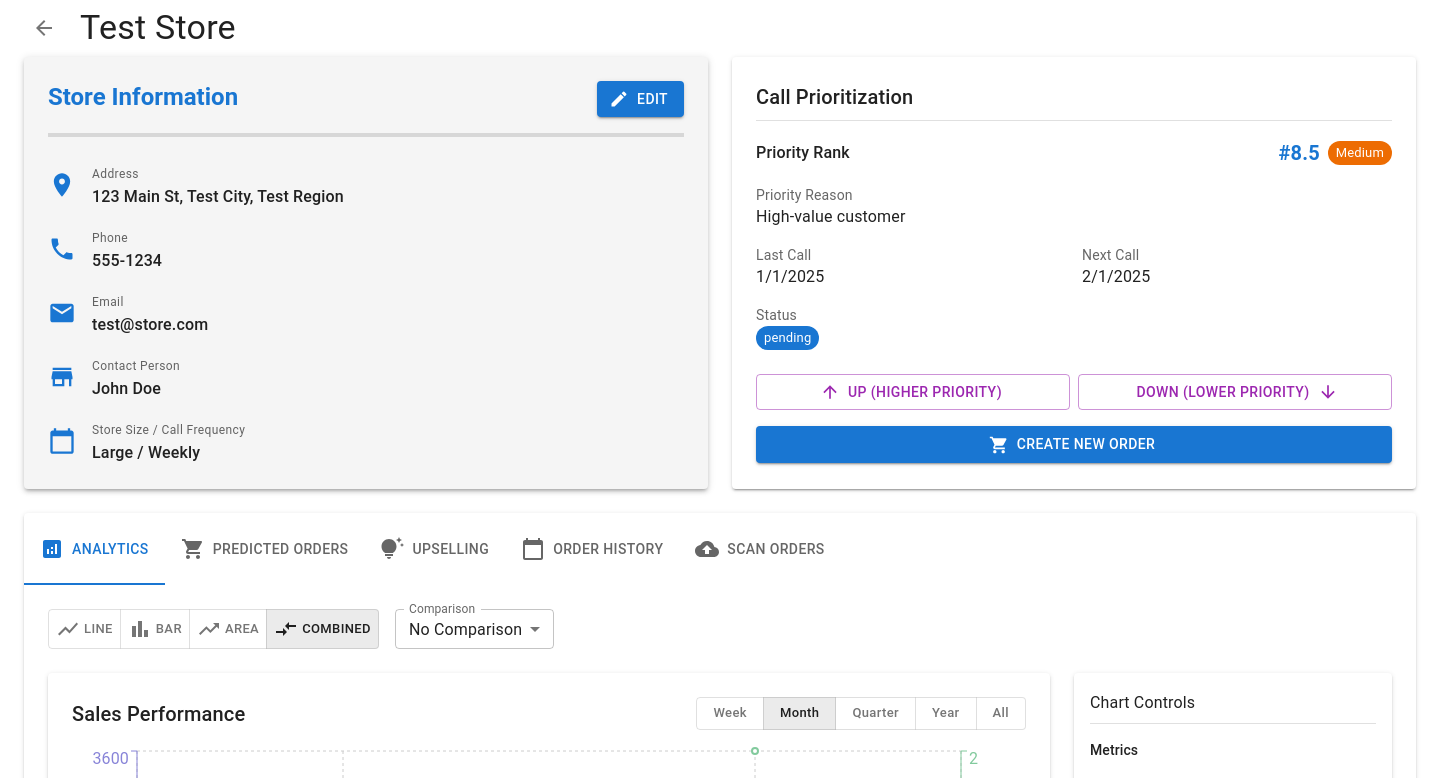
Test case: StoreDetailPage - Data Mapping and Display › Data Fetching and Filtering › filters predicted orders for the specific store
Expected: the heading "Test Store" is shown, [80,7,236,49]
Note: Click on Predicted Orders tab
Click the tab "Predicted Orders" at (265, 550), box [165,514,364,586]
(page scrolled)
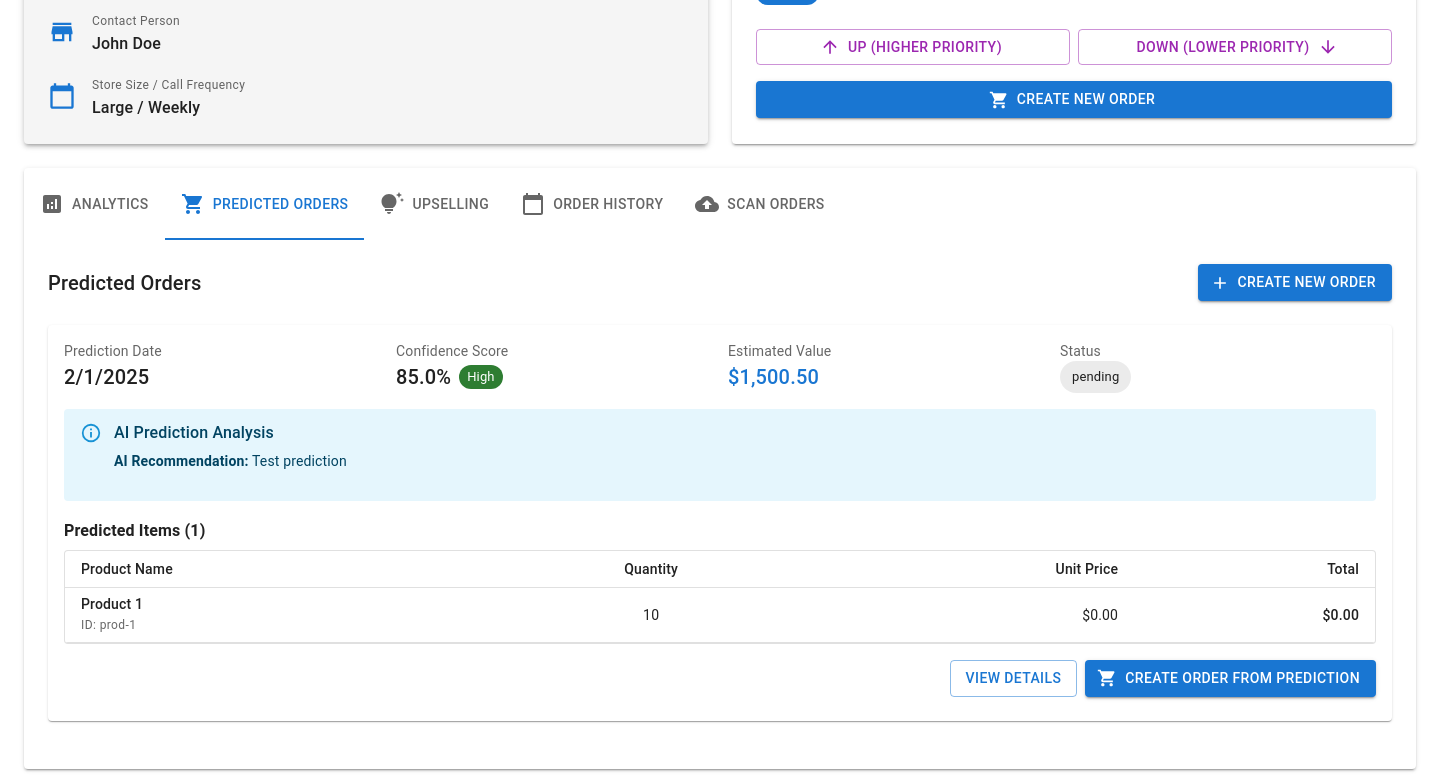
Result: the text "AI Recommendation: Test prediction" is shown at [114,451,347,471]
